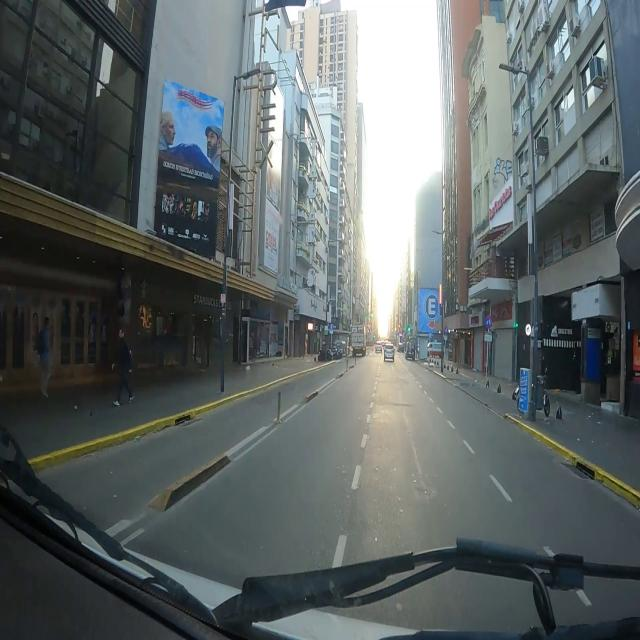car: (405, 342, 415, 360), (384, 344, 394, 361), (375, 341, 382, 353)
motorcycle: (538, 376, 550, 417)
